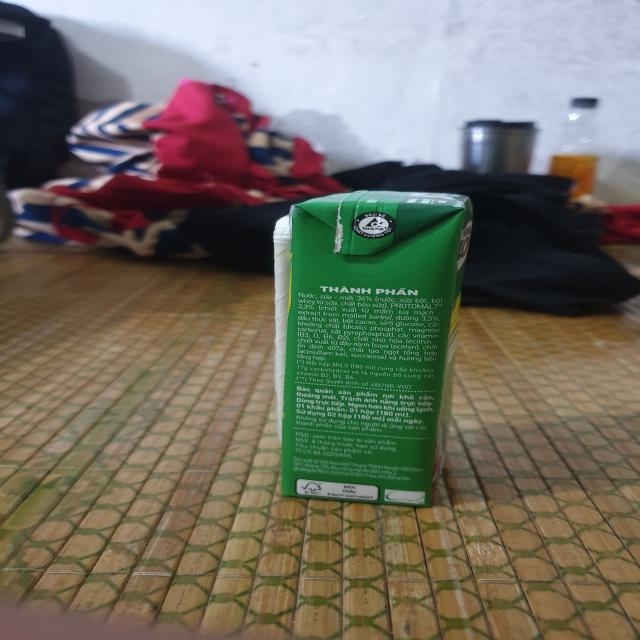Milo: (268, 191, 485, 509)
